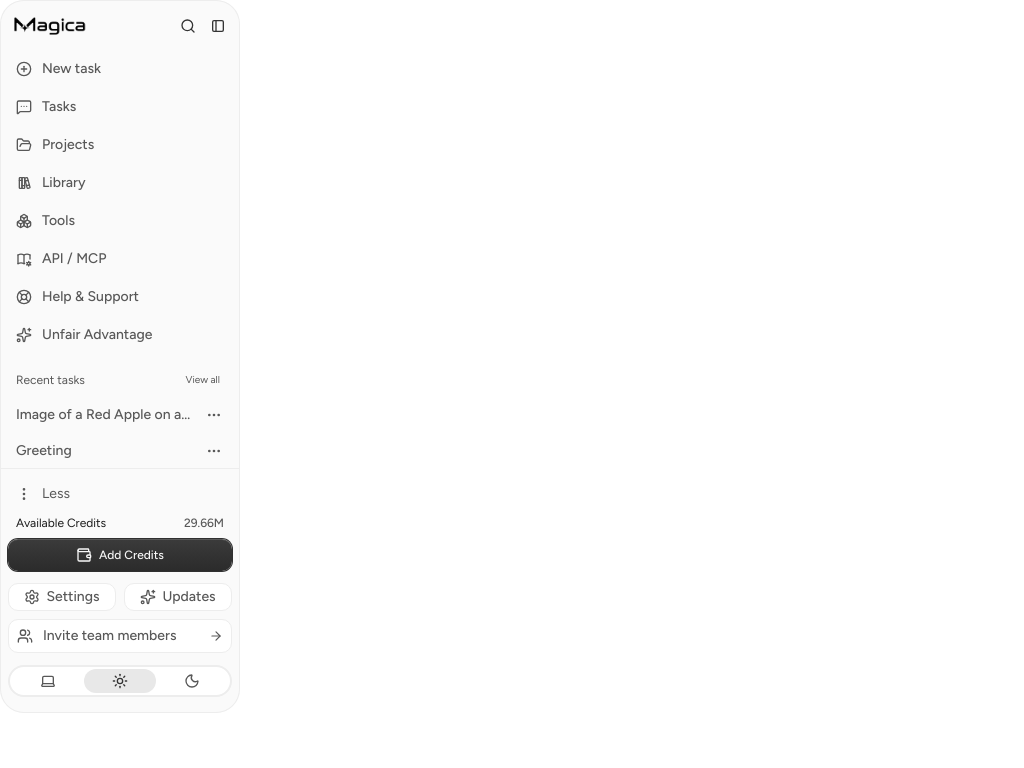
Test case: opening › 'API / MCP' in the sidebar opens the dialog; Escape closes it and gives focus back
Click the button "API / MCP": x=120, y=259 [8, 242, 232, 276]
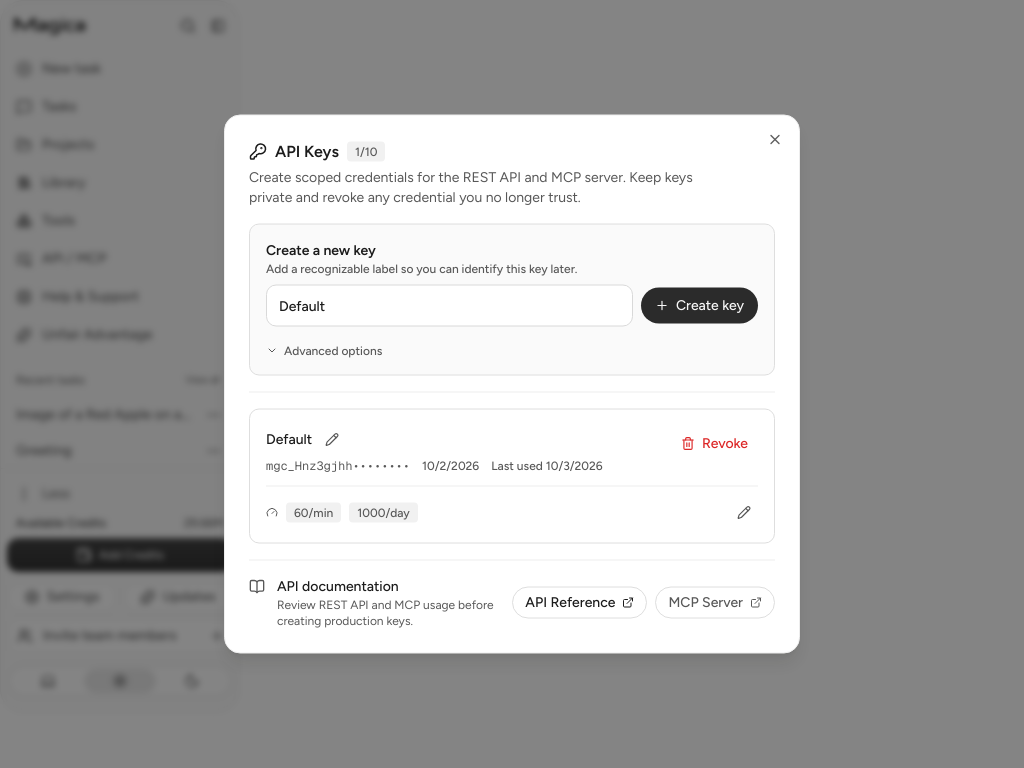
Result: the text "Create scoped credentials for the REST API and MCP server" is shown at [249, 168, 693, 206]
Press Escape
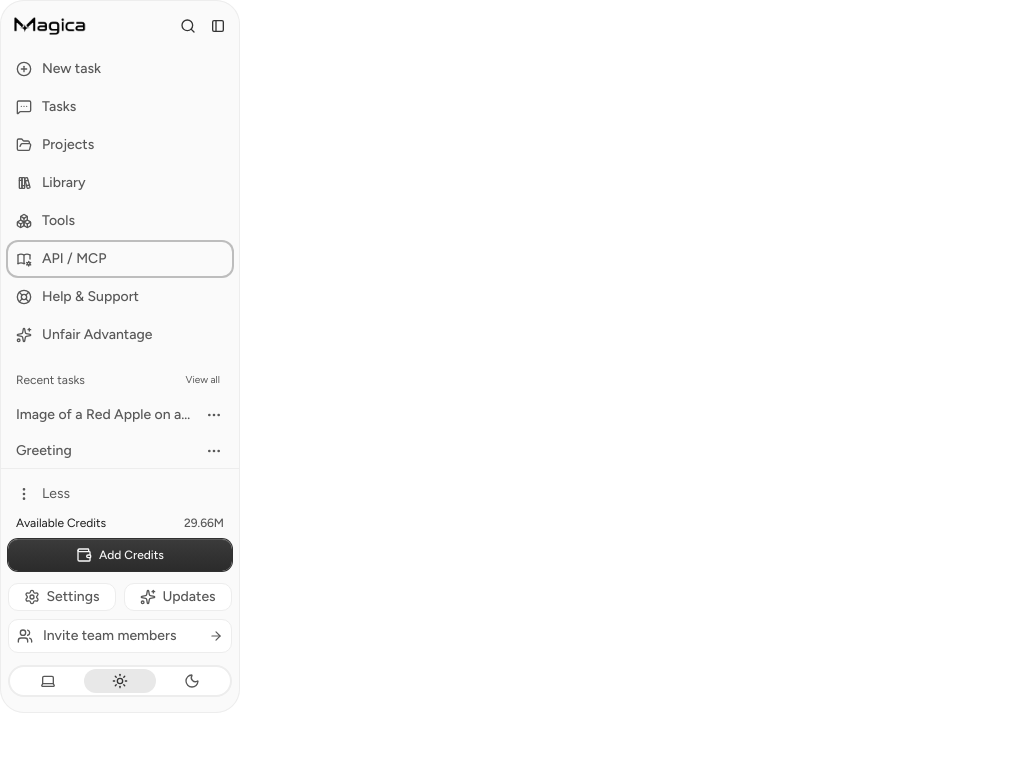
Result: the dialog is gone
